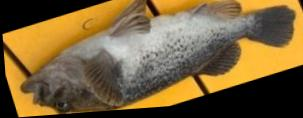fish: (19, 0, 294, 114)
